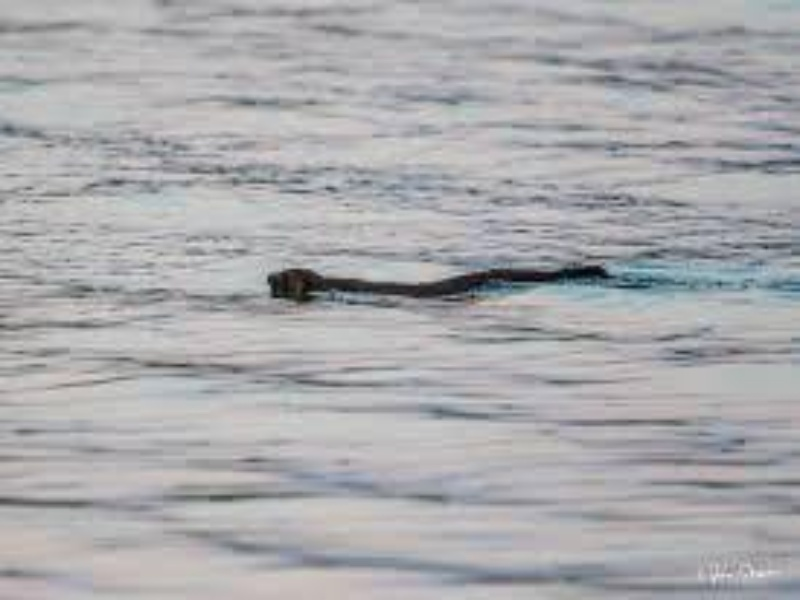minkish: (264, 261, 613, 303)
